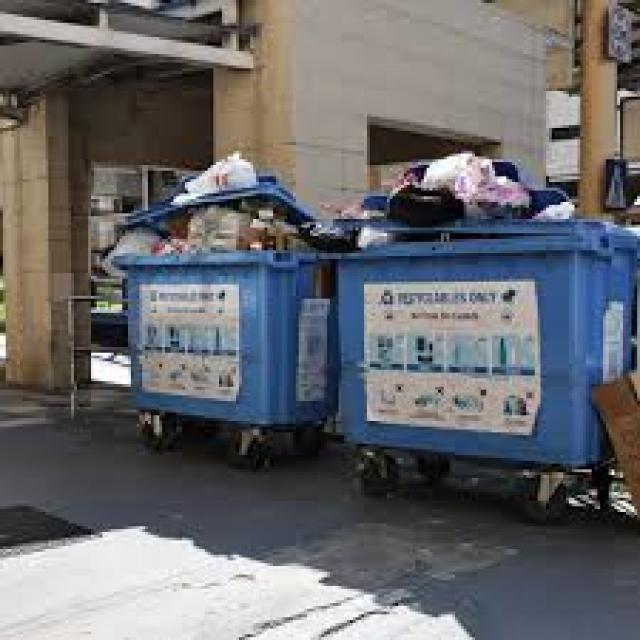bin_empty: (330, 216, 634, 521)
bin_full: (108, 176, 336, 466)
bulk_waste: (182, 150, 256, 197), (386, 185, 464, 225), (102, 225, 160, 276), (418, 150, 489, 190), (293, 216, 358, 250), (390, 222, 456, 242), (478, 196, 529, 219), (529, 199, 575, 219), (356, 225, 392, 248)
